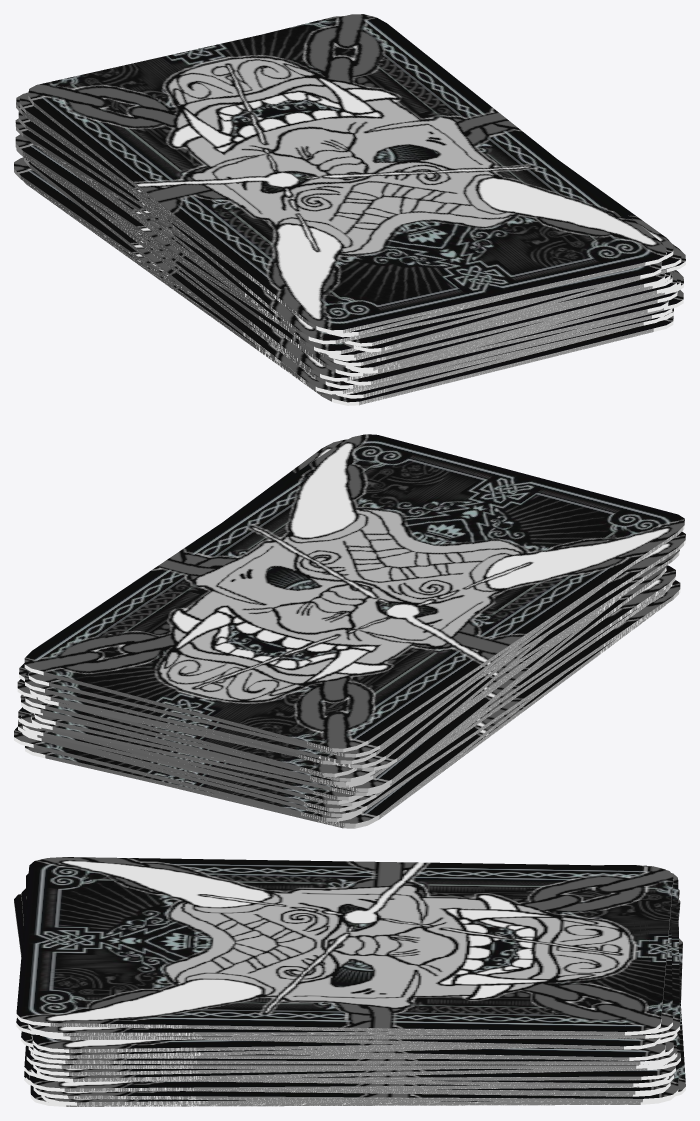
File: DeckOfEffectCards.fbx
The picture shows the model from 3 angles, top to bottom: view 1: azimuth 30°, elevation 25°; view 2: azimuth 150°, elevation 25°; view 3: azimuth 270°, elevation 25°; orthographic projection.
Visible parts, largest first — view 1: Plane.019, Plane.016, Plane.003, Plane.009, Plane, Plane.006, Plane.014, Plane.001, Plane.010, Plane.018, Plane.015, Plane.005 (+7 smaller); view 2: Plane.019, Plane.003, Plane.018, Plane.009, Plane.017, Plane.001, Plane.013, Plane.006, Plane.004, Plane.007, Plane.002, Plane.016 (+8 smaller); view 3: Plane.019, Plane.002, Plane.005, Plane.015, Plane.018, Plane.017, Plane.011, Plane.008, Plane.013, Plane.007, Plane.010, Plane.016 (+8 smaller).
Part boxes in pixels (x1,y1,x2,y2): Plane.019: (28,14,666,333); Plane.016: (135,196,662,344); Plane.003: (24,158,664,394); Plane.009: (15,134,680,371); Plane: (23,181,673,405); Plane.006: (107,212,668,381); Plane.014: (15,118,685,352); Plane.001: (14,157,673,398); Plane.010: (32,143,676,366); Plane.018: (19,16,673,335); Plane.015: (18,111,681,346); Plane.005: (31,162,683,385); Plane.019: (24,434,684,752); Plane.003: (22,580,680,817); Plane.018: (28,439,559,757); Plane.009: (34,597,621,791); Plane.017: (24,575,618,764); Plane.001: (24,675,562,827); Plane.013: (17,549,679,777); Plane.006: (18,565,675,804); Plane.004: (18,584,672,811); Plane.007: (21,566,666,800); Plane.002: (14,727,385,821); Plane.016: (19,531,685,764); Plane.019: (16,857,673,1035); Plane.002: (33,938,682,1102); Plane.005: (29,1073,673,1091); Plane.015: (21,888,677,1052); Plane.018: (26,865,672,1036); Plane.017: (38,873,679,1039); Plane.011: (30,1038,675,1064); Plane.008: (37,1032,680,1082); Plane.013: (21,900,680,1060); Plane.007: (31,1064,675,1081); Plane.010: (26,1046,669,1068); Plane.016: (16,889,679,1049).
Size of the model in its own units: 200 by 39.84 by 314.
Materials: 2 (2 with a texture image).
